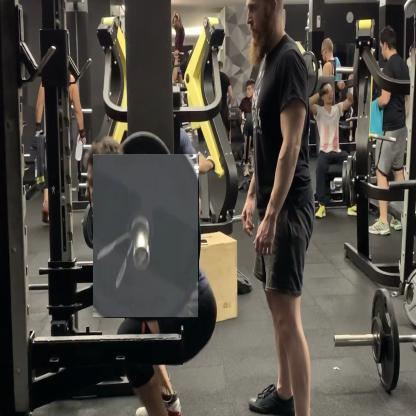barbell: (95, 156, 201, 320)
